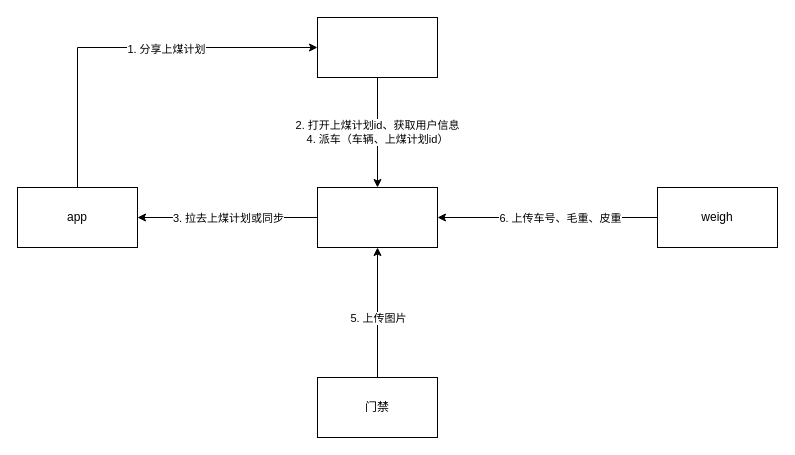
This 795x455 diagram has some shape labels left out. Here are the shapes that lost their labels. From the top down, the centre of each, then its label:
At (x=377, y=47): "小程序前端".
At (x=377, y=217): "小程序后端 7. 打印磅单".
